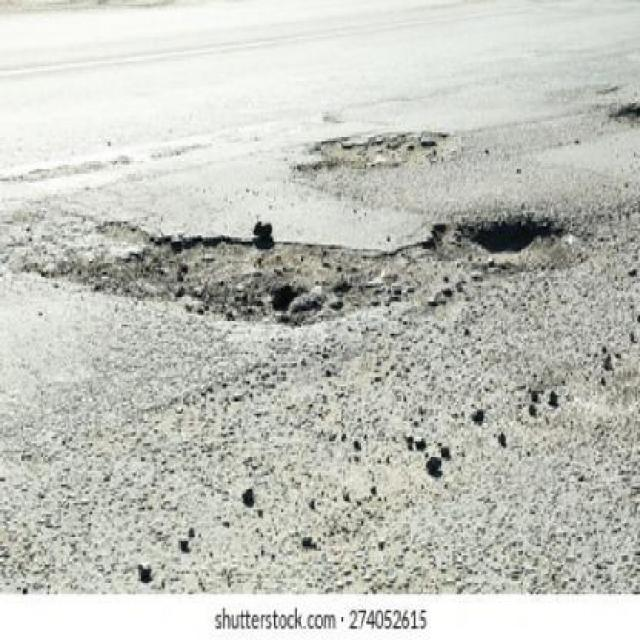Pothole: (132, 231, 391, 318), (424, 215, 588, 276), (312, 130, 450, 167)
